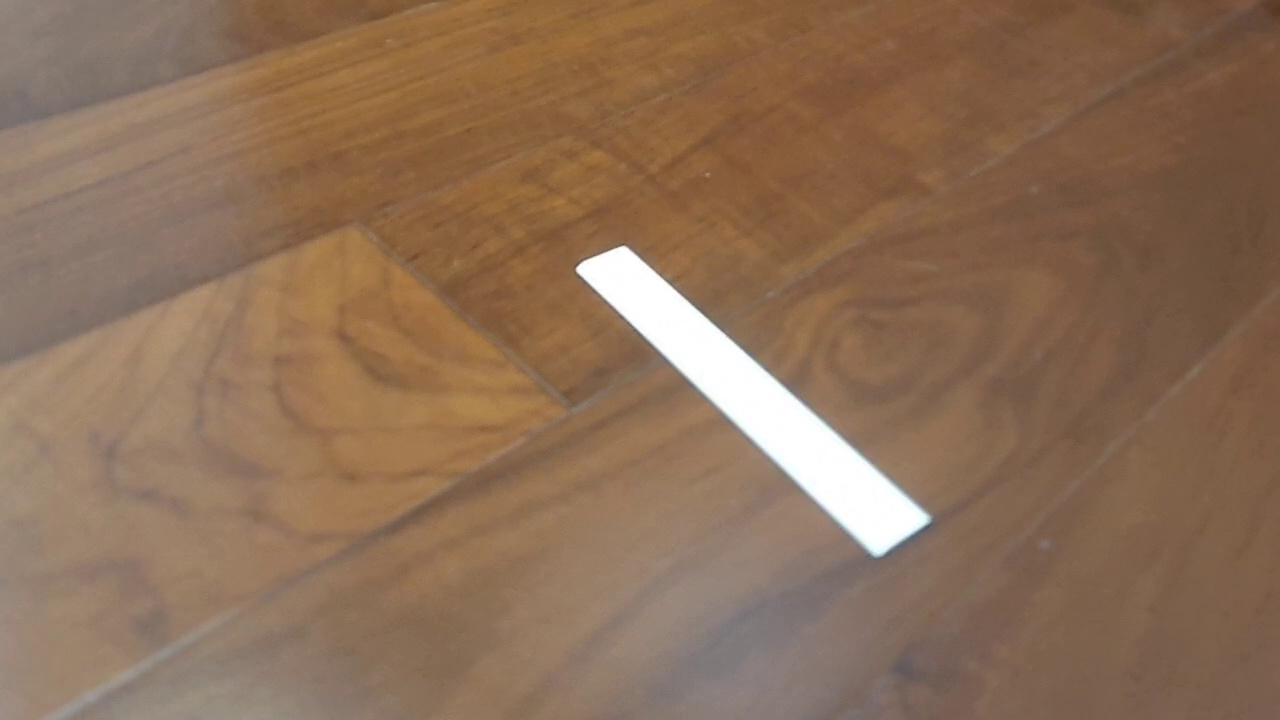ruler: (573, 242, 934, 560)
